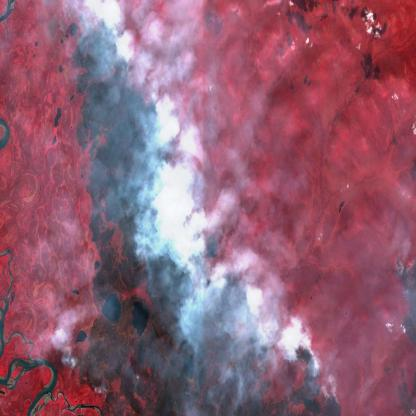fire: (94, 0, 340, 415), (56, 330, 88, 389)
